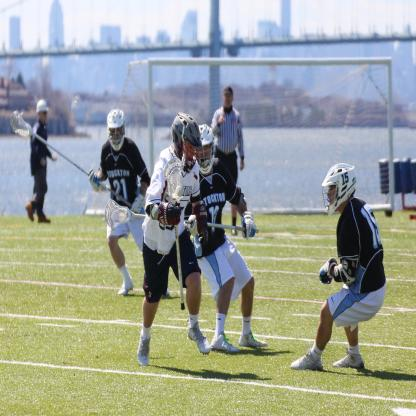Helmet: (321, 170, 362, 219), (172, 111, 202, 171), (105, 108, 126, 154), (198, 122, 215, 172)
